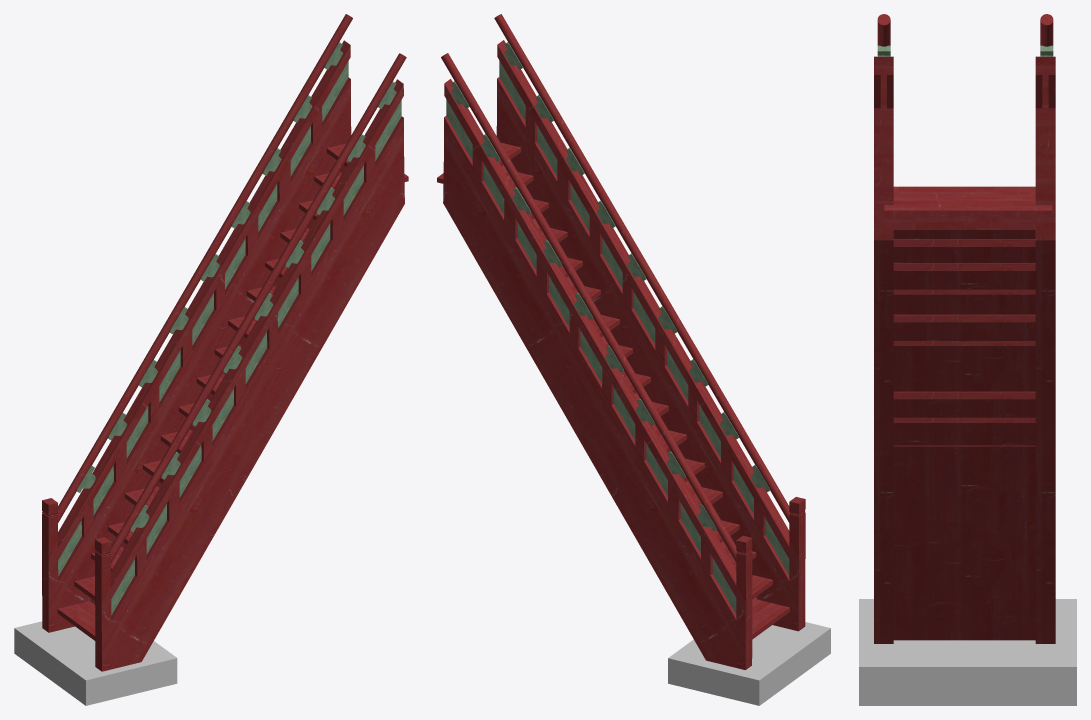
The model's file is SM_Stair_1.fbx.
The picture shows the model from 3 angles, left to right: view 1: azimuth 30°, elevation 25°; view 2: azimuth 150°, elevation 25°; view 3: azimuth 270°, elevation 25°; orthographic projection. The views are drawn at different scales.
Parts seen in each view (by area): view 1: SM_Stair_1_LOD0; view 2: SM_Stair_1_LOD0; view 3: SM_Stair_1_LOD0.
Part boxes in pixels (x1,y1,x2,y2): SM_Stair_1_LOD0: [14, 14, 408, 705]; SM_Stair_1_LOD0: [437, 14, 830, 705]; SM_Stair_1_LOD0: [859, 14, 1076, 705].
Size of the model in its own units: 403 by 151 by 659.
